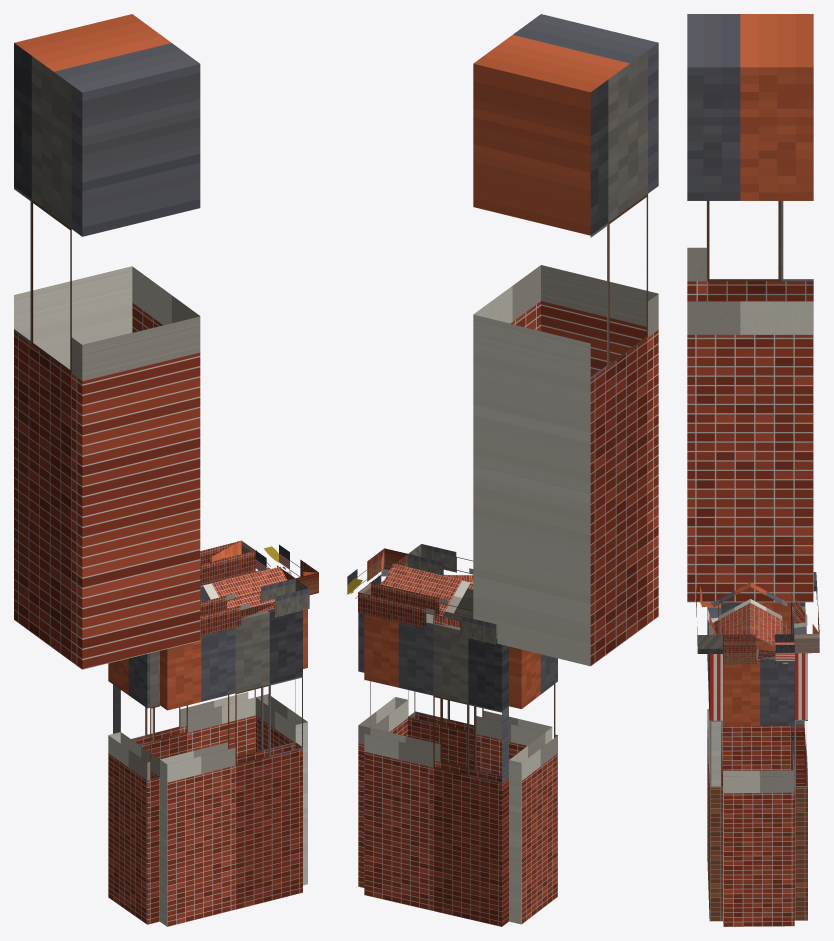
The picture shows the model from 3 angles, left to right: view 1: azimuth 30°, elevation 25°; view 2: azimuth 150°, elevation 25°; view 3: azimuth 270°, elevation 25°; orthographic projection. The views are drawn at different scales.
Visible parts, largest first — view 1: 1106967134__chimney_0_xb, 1106967134__wall_0_xb, 1106967134__wall_1_xb, 1106967134__wall_2_xb, 1106967134__wall_3_xb, 1106967134__cornice_0, 1106967134_roof_-1_xb, 1106967134__cornice_2, 1106967134__cornice_3; view 2: 1106967134__chimney_0_xb, 1106967134__wall_2_xb, 1106967134__wall_1_xb, 1106967134__wall_0_xb, 1106967134__cornice_2, 1106967134__wall_3_xb, 1106967134_roof_1_xb, 1106967134__cornice_0, 1106967134__cornice_3; view 3: 1106967134__chimney_0_xb, 1106967134__wall_3_xb, 1106967134__wall_0_xb, 1106967134__wall_2_xb, 1106967134__wall_1_xb, 1106967134__cornice_3, 1106967134_roof_1_xb, 1106967134_roof_-1_xb, 1106967134__cornice_2, 1106967134__cornice_0.
Boxes of the visible parts, x1=… form: 1106967134__chimney_0_xb: x1=14, y1=14, x2=200, y2=669; 1106967134__wall_0_xb: x1=160, y1=609, x2=302, y2=926; 1106967134__wall_1_xb: x1=108, y1=651, x2=159, y2=924; 1106967134__wall_2_xb: x1=113, y1=571, x2=255, y2=759; 1106967134__wall_3_xb: x1=255, y1=568, x2=307, y2=885; 1106967134__cornice_0: x1=200, y1=578, x2=309, y2=636; 1106967134_roof_-1_xb: x1=203, y1=566, x2=287, y2=613; 1106967134__cornice_2: x1=200, y1=540, x2=255, y2=585; 1106967134__cornice_3: x1=255, y1=544, x2=318, y2=594; 1106967134__chimney_0_xb: x1=473, y1=14, x2=658, y2=666; 1106967134__wall_2_xb: x1=364, y1=614, x2=508, y2=926; 1106967134__wall_1_xb: x1=509, y1=646, x2=557, y2=924; 1106967134__wall_0_xb: x1=408, y1=587, x2=552, y2=775; 1106967134__cornice_2: x1=358, y1=582, x2=497, y2=644; 1106967134__wall_3_xb: x1=358, y1=581, x2=407, y2=887; 1106967134_roof_1_xb: x1=382, y1=563, x2=473, y2=618; 1106967134__cornice_0: x1=408, y1=544, x2=473, y2=588; 1106967134__cornice_3: x1=347, y1=548, x2=407, y2=598; 1106967134__chimney_0_xb: x1=687, y1=14, x2=813, y2=602; 1106967134__wall_3_xb: x1=723, y1=656, x2=794, y2=926; 1106967134__wall_0_xb: x1=707, y1=603, x2=722, y2=921; 1106967134__wall_2_xb: x1=791, y1=602, x2=807, y2=920; 1106967134__wall_1_xb: x1=721, y1=602, x2=790, y2=778; 1106967134__cornice_3: x1=723, y1=634, x2=794, y2=664; 1106967134_roof_1_xb: x1=750, y1=582, x2=787, y2=647; 1106967134_roof_-1_xb: x1=713, y1=582, x2=750, y2=643; 1106967134__cornice_2: x1=791, y1=572, x2=819, y2=653; 1106967134__cornice_0: x1=696, y1=586, x2=722, y2=653.
Bounding box in the file's own units: 0.3251 × 1.05 × 0.1571.
1 material, 1 textured.
